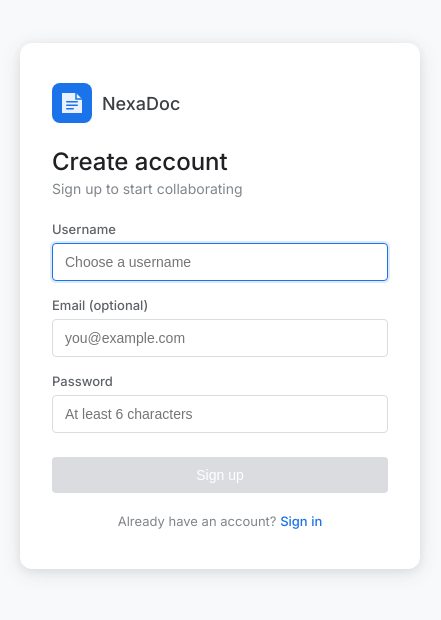
Scenario: RegisterPage › displays error on registration failure
The image size is (441, 620).
In the field with placeholder "Choose a username": (220, 262) [52,243,388,281], type "dup"
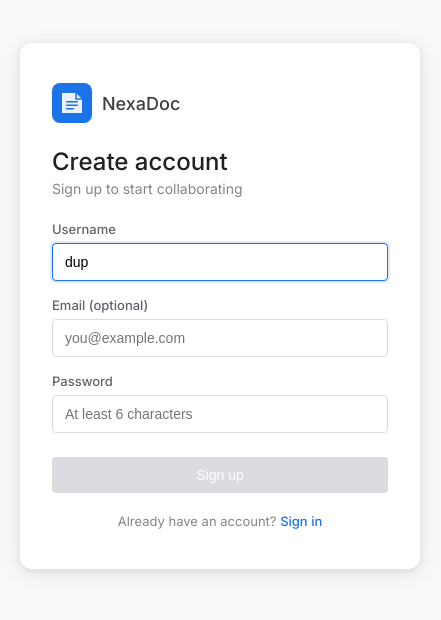
In the password field with placeholder "At least 6 characters": (220, 414) [52,395,388,433], type "pass123"
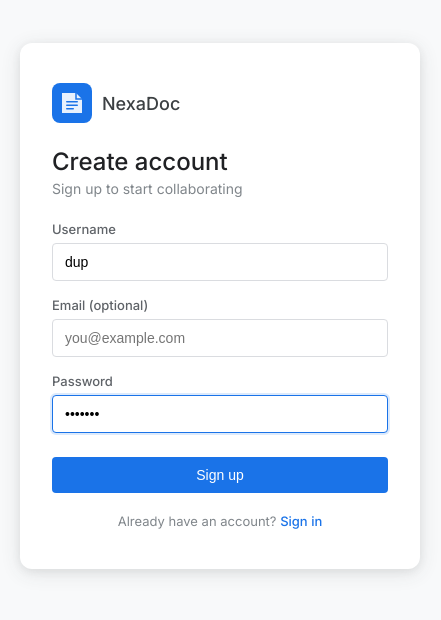
Click the button "Sign up": click(220, 475) [52,457,388,493]
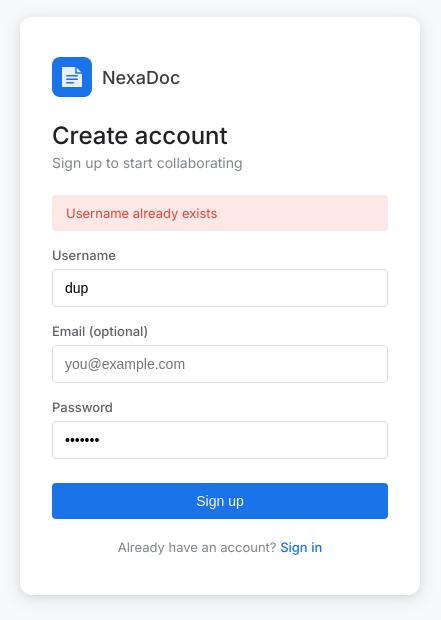
Now the text "Username already exists" is shown, box [52,195,388,231]
